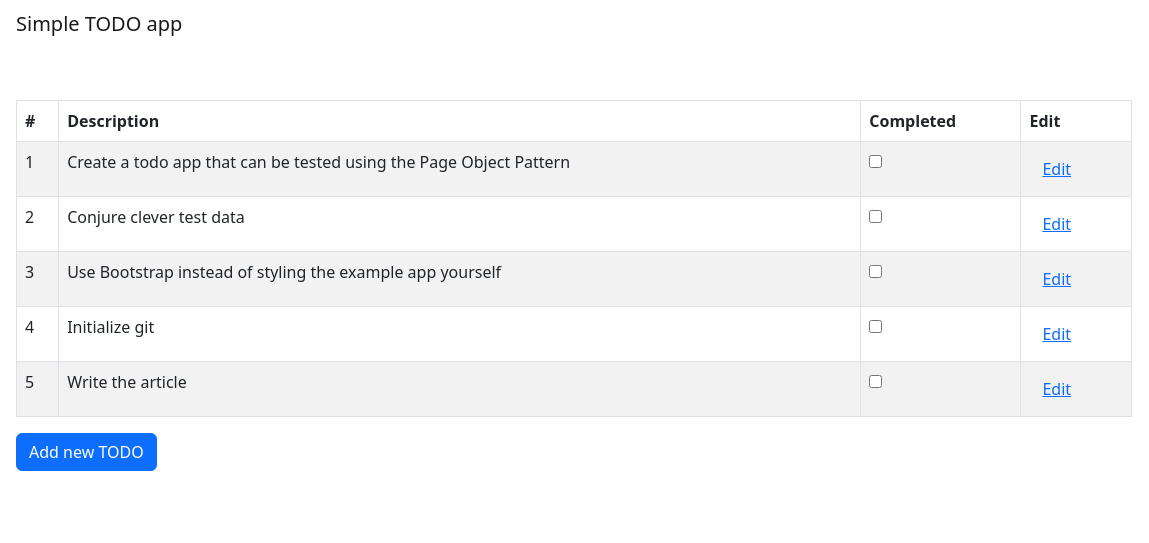
Integration-test › should add new todo
Click the button "Add new TODO".
click(86, 452)  # box x1=16 y1=433 x2=157 y2=471
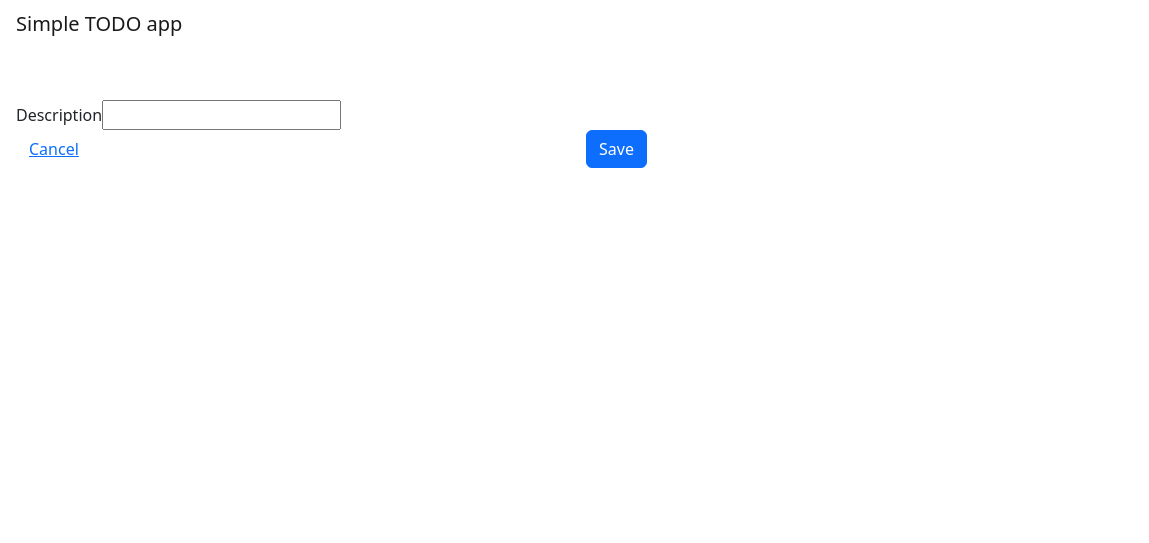
Type "A brand new TODO" into the field labelled "Description".
click(222, 115); type("A brand new TODO")  # box x1=102 y1=100 x2=341 y2=130
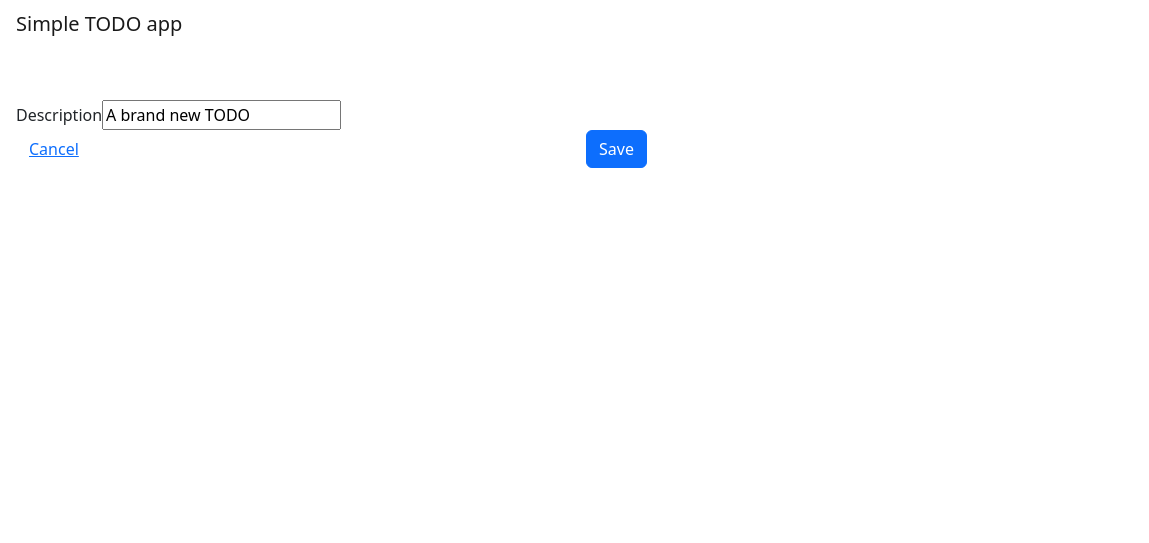
Click the button "Save".
click(616, 149)  # box x1=586 y1=130 x2=647 y2=168
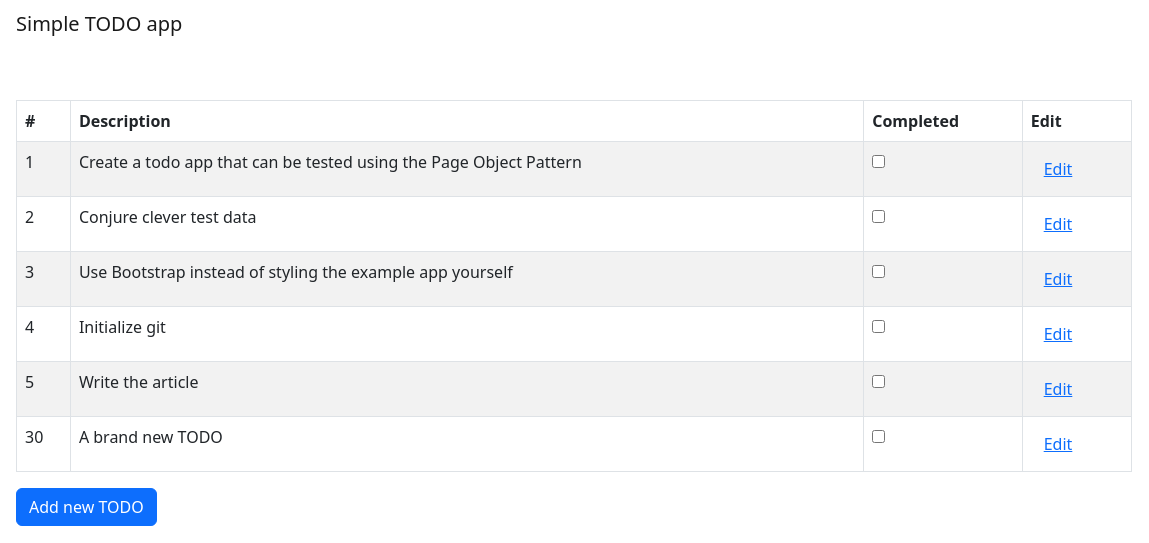
Check: the cell "A brand new TODO" is shown, box x1=70 y1=416 x2=864 y2=472
